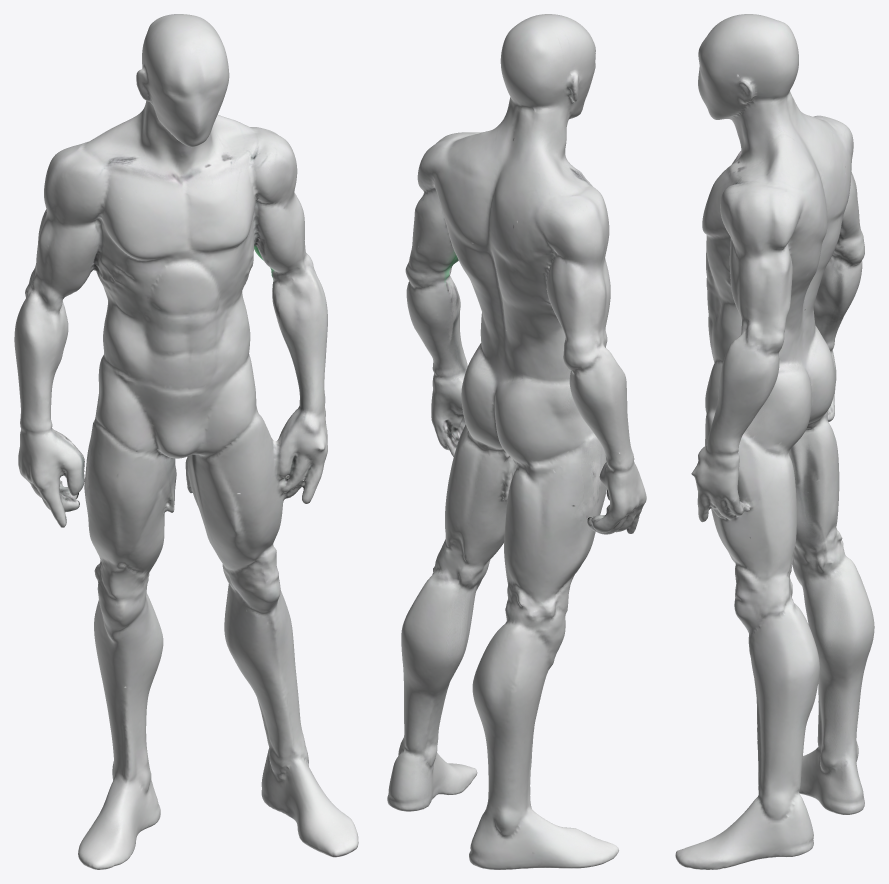
Rendered from Meshy_AI_Muscular_Figure_Study_0405185312_texture.glb.
3 renders of one model, left to right at view 1: azimuth 30°, elevation 25°; view 2: azimuth 150°, elevation 25°; view 3: azimuth 270°, elevation 25°, orthographic. The views are drawn at different scales.
Size of the model in its own units: 0.6933 by 2 by 0.4583.
1 material, 1 textured.
